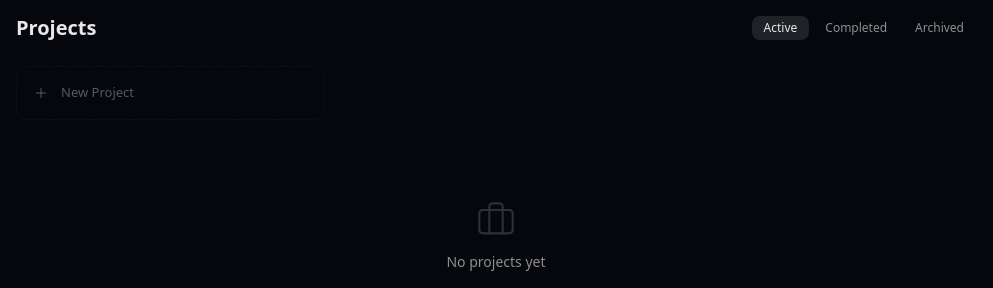
Test: ProjectsOverviewView › tab navigation › switches to archived view when Archived tab is clicked
Click the button with test id "projects-tab-archived": (940, 28) [903, 16, 976, 40]
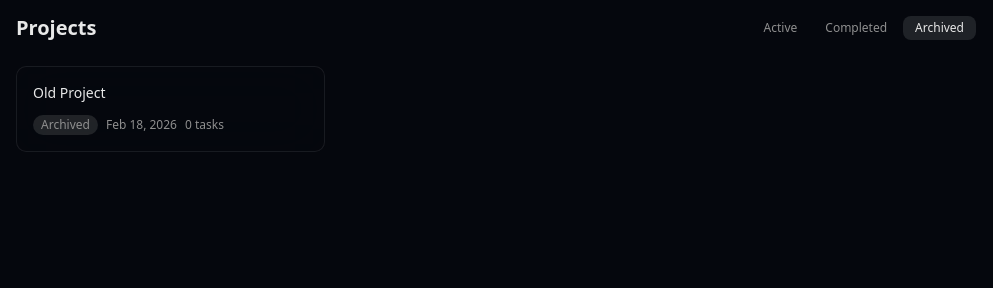
Expected: the heading "Old Project" is shown, [33, 83, 106, 103]
